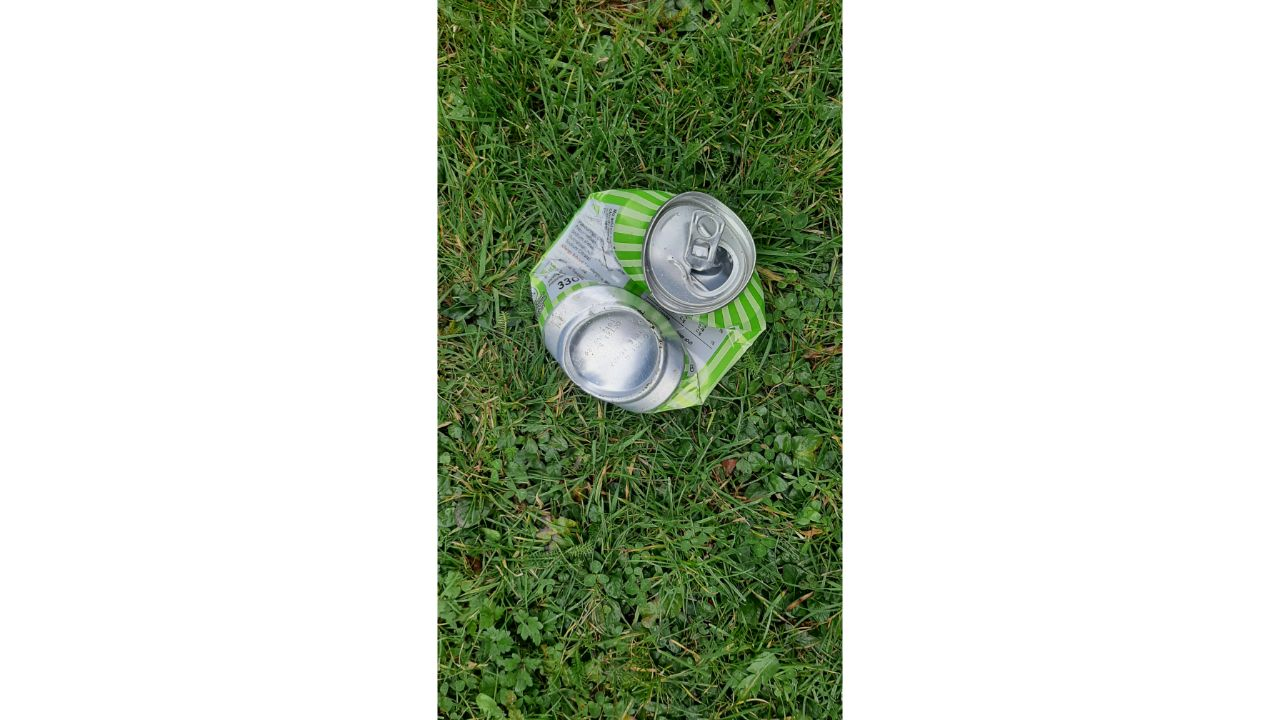Can: (525, 184, 768, 415)
